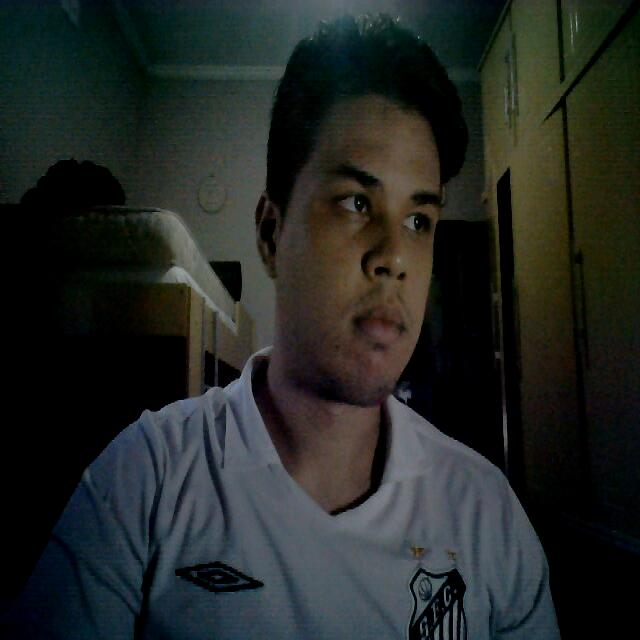acordado: (264, 45, 445, 450)
